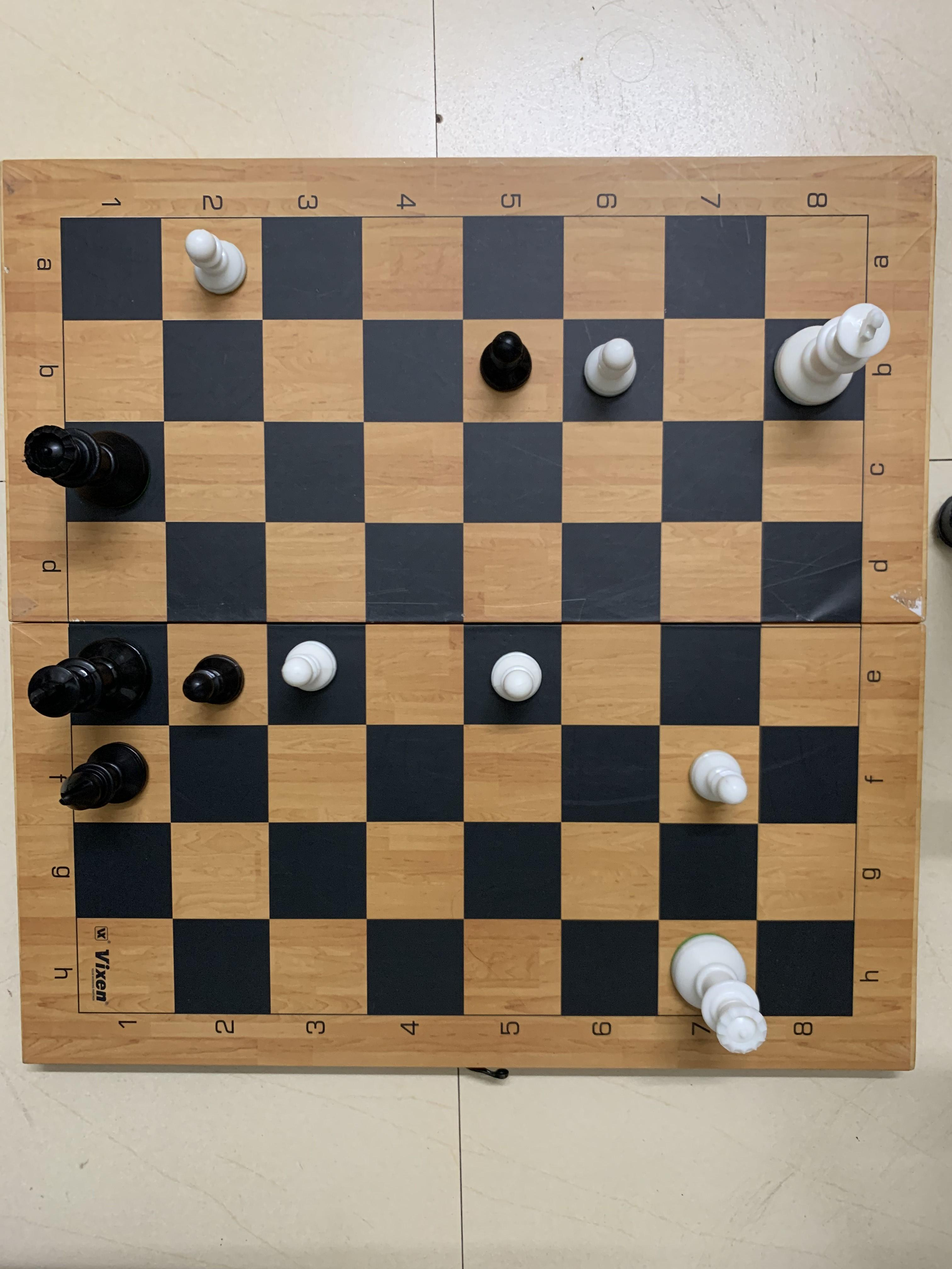black_bishop: (59, 732, 167, 819)
black_king: (13, 624, 167, 727)
black_pawn: (461, 323, 558, 410), (174, 637, 258, 719)
black_queen: (2, 421, 168, 521)
white_king: (771, 279, 902, 419)
white_pawn: (571, 324, 668, 426), (466, 625, 561, 718), (674, 732, 768, 823), (167, 216, 251, 315), (274, 623, 367, 712)
white_queen: (658, 921, 791, 1065)
